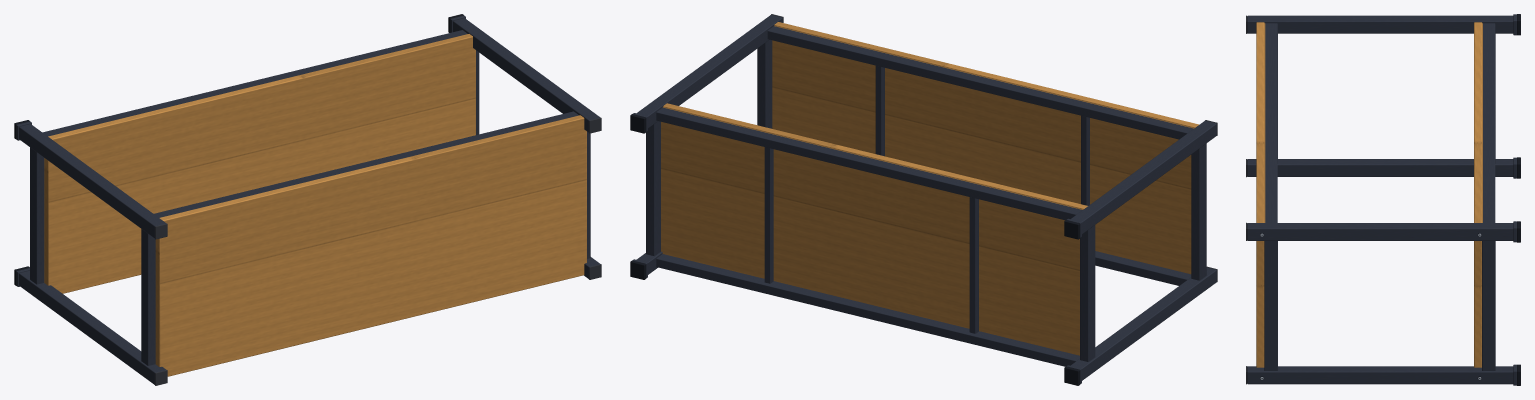
File: printer-rack.glb
3 views of the same model, side by side, from view 1: azimuth 30°, elevation 25°; view 2: azimuth 150°, elevation 25°; view 3: azimuth 270°, elevation 25° (orthographic). The views are drawn at different scales.
Visible parts, largest first — view 1: Shelf_Printer_1_Wood, Shelf_Printer_0_Wood, Leg_Printer_01_Upright, Leg_Printer_00_Upright, Leg_Printer_11_Upright, Frame_Printer_0_LongApron1, Frame_Printer_1_LongApron1, Frame_Printer_1_SideApron0, Frame_Printer_0_SideApron0, Frame_Printer_1_SideApron1; view 2: Shelf_Printer_0_Underlip, Shelf_Printer_1_Underlip, Frame_Printer_1_LongApron1, Frame_Printer_0_LongApron1, Frame_Printer_0_LongApron0, Leg_Printer_01_Upright, Leg_Printer_00_Upright, Leg_Printer_11_Upright, Shelf_Printer_0_Wood, Shelf_Printer_1_Wood, Frame_Printer_1_SideApron0, Frame_Printer_0_SideApron0 (+7 smaller); view 3: Leg_Printer_10_Upright, Leg_Printer_11_Upright, Leg_Printer_01_Upright, Leg_Printer_00_Upright, Shelf_Printer_1_Wood, Shelf_Printer_0_Wood, Frame_Printer_1_LongApron1, Frame_Printer_0_LongApron1, Frame_Printer_0_SideApron1, Frame_Printer_1_SideApron1, Shelf_Printer_1_Underlip.
Part boxes in pixels (x1,y1,x2,y2): Shelf_Printer_1_Wood: (155,115,586,376); Shelf_Printer_0_Wood: (44,34,475,293); Leg_Printer_01_Upright: (19,124,166,238); Leg_Printer_00_Upright: (19,270,166,384); Leg_Printer_11_Upright: (453,18,600,132); Frame_Printer_0_LongApron1: (42,30,467,136); Frame_Printer_1_LongApron1: (154,111,578,217); Frame_Printer_1_SideApron0: (141,229,155,365); Frame_Printer_0_SideApron0: (30,147,44,284); Frame_Printer_1_SideApron1: (587,131,590,258); Shelf_Printer_0_Underlip: (661,107,1082,355); Shelf_Printer_1_Underlip: (772,26,1194,274); Frame_Printer_1_LongApron1: (767,26,1193,139); Frame_Printer_0_LongApron1: (656,107,1082,220); Frame_Printer_0_LongApron0: (656,254,1079,366); Leg_Printer_01_Upright: (1070,120,1216,234); Leg_Printer_00_Upright: (1071,267,1216,380); Leg_Printer_11_Upright: (637,14,782,128); Shelf_Printer_0_Wood: (663,103,1087,209); Shelf_Printer_1_Wood: (774,22,1198,127); Frame_Printer_1_SideApron0: (1191,143,1206,280); Frame_Printer_0_SideApron0: (1080,225,1095,361); Leg_Printer_10_Upright: (1247,366,1513,384); Leg_Printer_11_Upright: (1247,223,1513,240); Leg_Printer_01_Upright: (1247,15,1513,33); Leg_Printer_00_Upright: (1247,159,1513,176); Shelf_Printer_1_Wood: (1256,22,1264,367); Shelf_Printer_0_Wood: (1474,22,1482,367); Frame_Printer_1_LongApron1: (1265,23,1277,222); Frame_Printer_0_LongApron1: (1483,23,1495,222); Frame_Printer_0_SideApron1: (1482,241,1495,370); Frame_Printer_1_SideApron1: (1264,241,1277,370); Shelf_Printer_1_Underlip: (1264,23,1265,222).
Bounding box in the file's own units: 2.21 × 0.762 × 1.2.
6 materials, 5 textured.
